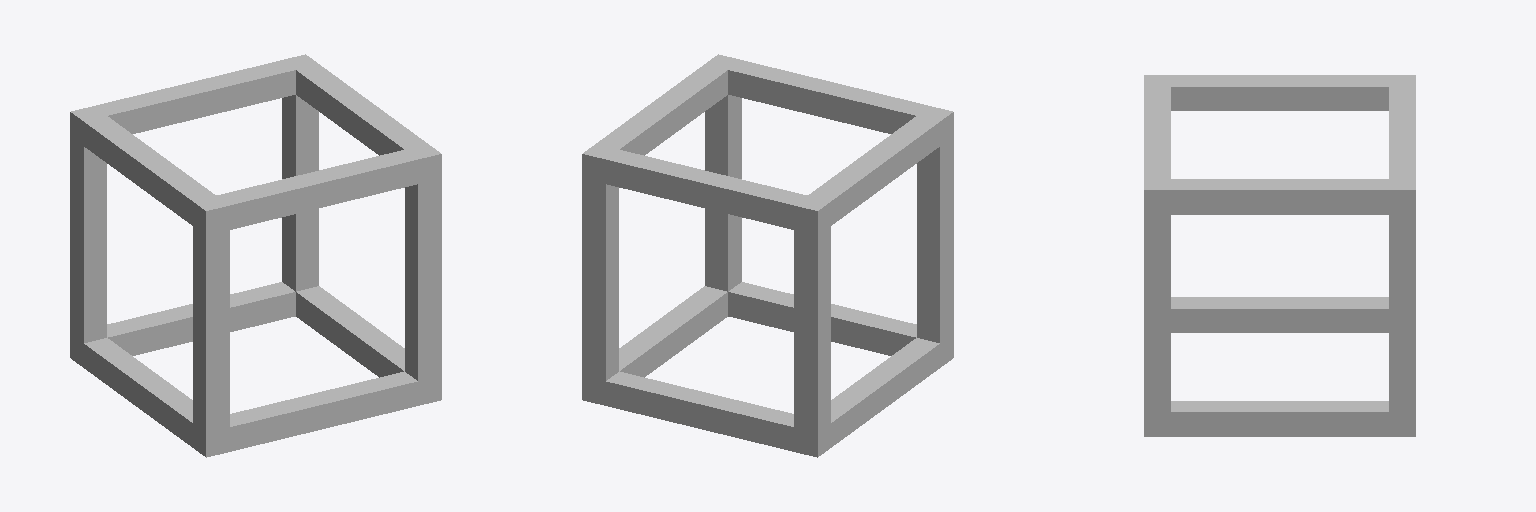
The model's file is BlankCube.obj.
3 renders of one model, left to right at view 1: azimuth 30°, elevation 25°; view 2: azimuth 150°, elevation 25°; view 3: azimuth 270°, elevation 25°, orthographic.
Parts seen in each view (by area): view 1: 立方体_立方体.001; view 2: 立方体_立方体.001; view 3: 立方体_立方体.001.
Part boxes in pixels (x1,y1,x2,y2): 立方体_立方体.001: (70, 54, 441, 457); 立方体_立方体.001: (582, 54, 953, 457); 立方体_立方体.001: (1144, 75, 1415, 436).
Size of the model in its own units: 1 by 1 by 1.